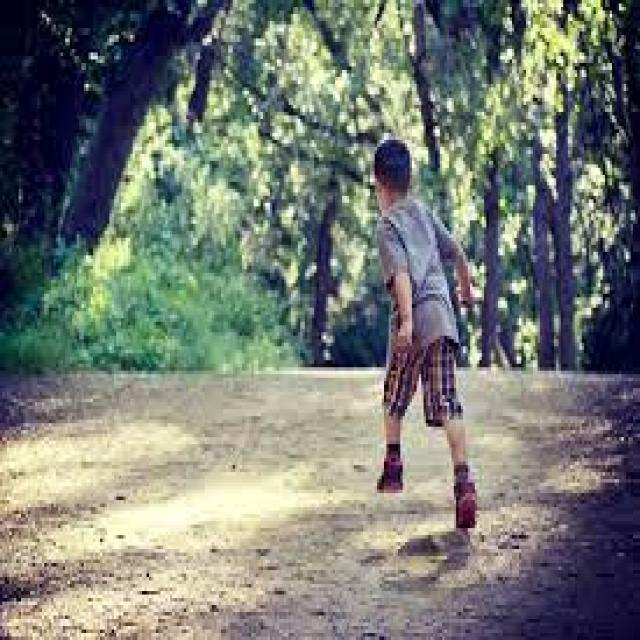Person: (372, 138, 478, 528)
